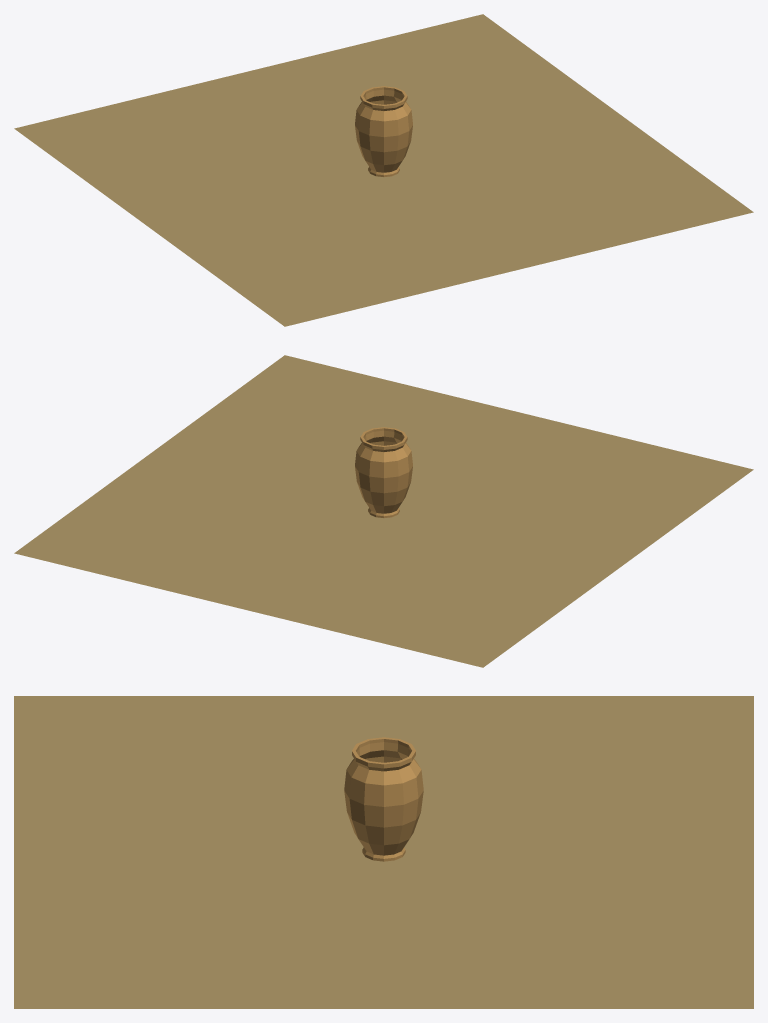
The model's file is Tile 41_Combined.fbx.
3 views of the same model, one above another, from view 1: azimuth 30°, elevation 25°; view 2: azimuth 150°, elevation 25°; view 3: azimuth 270°, elevation 25° (orthographic). The views are drawn at different scales.
Visible parts, largest first — view 1: MeshBaker_mesh_mesh; view 2: MeshBaker_mesh_mesh; view 3: MeshBaker_mesh_mesh.
Boxes of the visible parts, x1,y1,x2,y2 form: MeshBaker_mesh_mesh: (14,14,753,326); MeshBaker_mesh_mesh: (14,355,753,667); MeshBaker_mesh_mesh: (14,696,753,1008).
Bounding box in the file's own units: 3000 × 455 × 3000.
